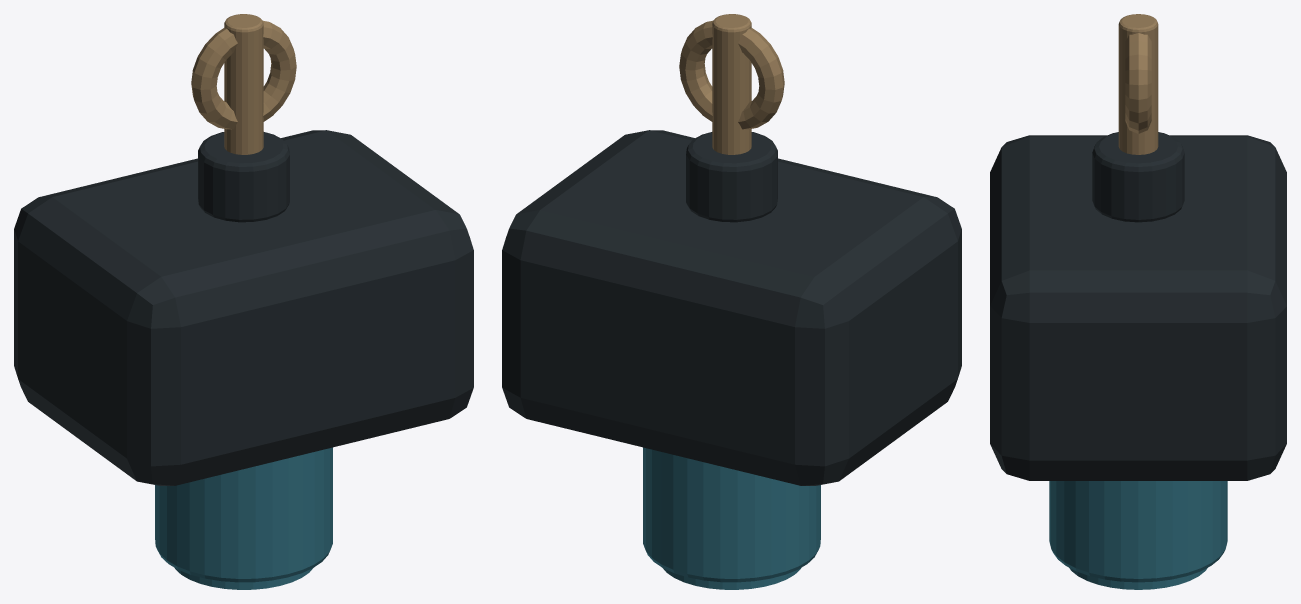
The model's file is OverheadCamera_Blockout.fbx.
3 views of the same model, side by side, from view 1: azimuth 30°, elevation 25°; view 2: azimuth 150°, elevation 25°; view 3: azimuth 270°, elevation 25° (orthographic).
Parts seen in each view (by area): view 1: OverheadCamera_Housing, OverheadCamera_LensBarrel, OverheadCamera_Shackle, OverheadCamera_RopeEye, OverheadCamera_SuspensionRope, OverheadCamera_LensGlass_Blockout; view 2: OverheadCamera_Housing, OverheadCamera_LensBarrel, OverheadCamera_Shackle, OverheadCamera_RopeEye, OverheadCamera_SuspensionRope, OverheadCamera_LensGlass_Blockout; view 3: OverheadCamera_Housing, OverheadCamera_LensBarrel, OverheadCamera_Shackle, OverheadCamera_SuspensionRope, OverheadCamera_RopeEye, OverheadCamera_LensGlass_Blockout.
Part boxes in pixels (x1,y1,x2,y2): OverheadCamera_Housing: (14, 130, 473, 485); OverheadCamera_LensBarrel: (155, 447, 332, 582); OverheadCamera_Shackle: (198, 132, 289, 222); OverheadCamera_RopeEye: (191, 20, 296, 129); OverheadCamera_SuspensionRope: (224, 14, 263, 154); OverheadCamera_LensGlass_Blockout: (174, 567, 312, 589); OverheadCamera_Housing: (502, 130, 961, 485); OverheadCamera_LensBarrel: (643, 447, 820, 582); OverheadCamera_Shackle: (686, 132, 777, 222); OverheadCamera_RopeEye: (679, 20, 784, 129); OverheadCamera_SuspensionRope: (712, 14, 751, 154); OverheadCamera_LensGlass_Blockout: (663, 567, 801, 589); OverheadCamera_Housing: (990, 135, 1286, 480); OverheadCamera_LensBarrel: (1049, 481, 1227, 582); OverheadCamera_Shackle: (1092, 132, 1184, 222); OverheadCamera_SuspensionRope: (1118, 14, 1158, 154); OverheadCamera_RopeEye: (1125, 33, 1151, 133); OverheadCamera_LensGlass_Blockout: (1069, 568, 1207, 589).
Size of the model in its own units: 0.12 by 0.18 by 0.09.
